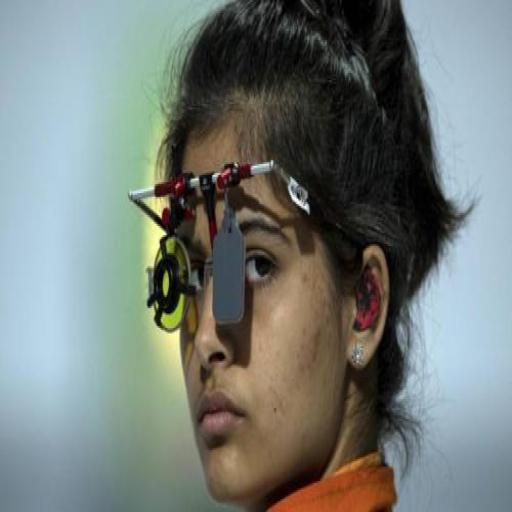shooting: (132, 2, 480, 512)
